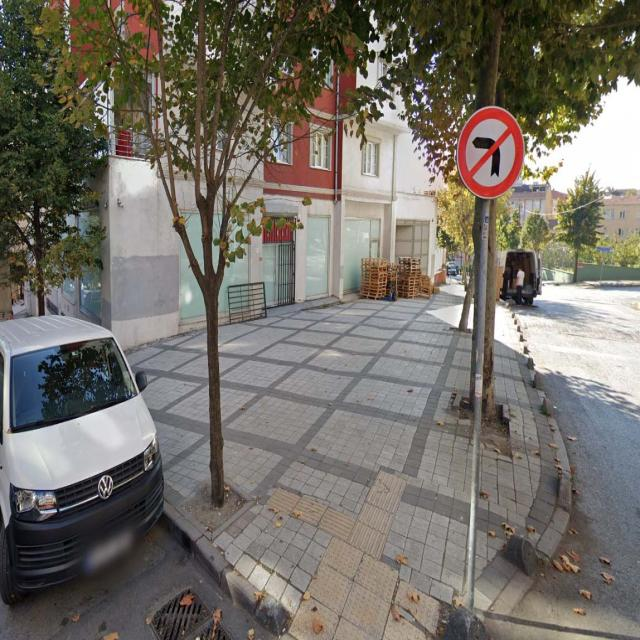soladonulmez: (457, 106, 524, 200)
